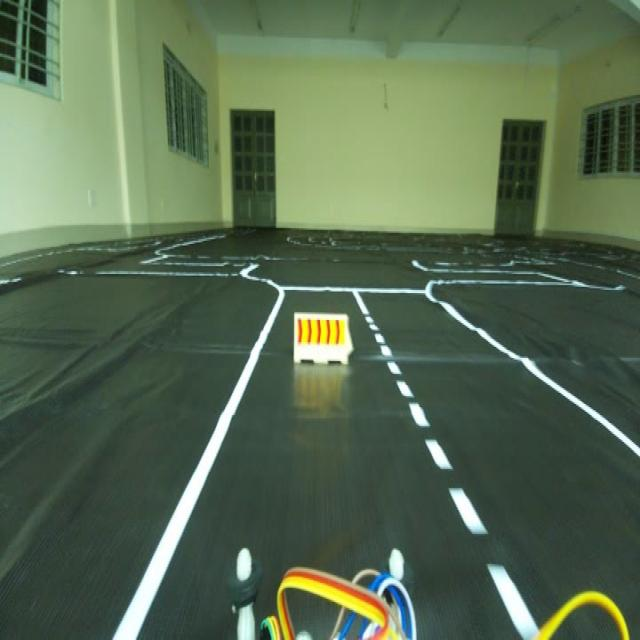roadblock: (286, 300, 361, 380)
